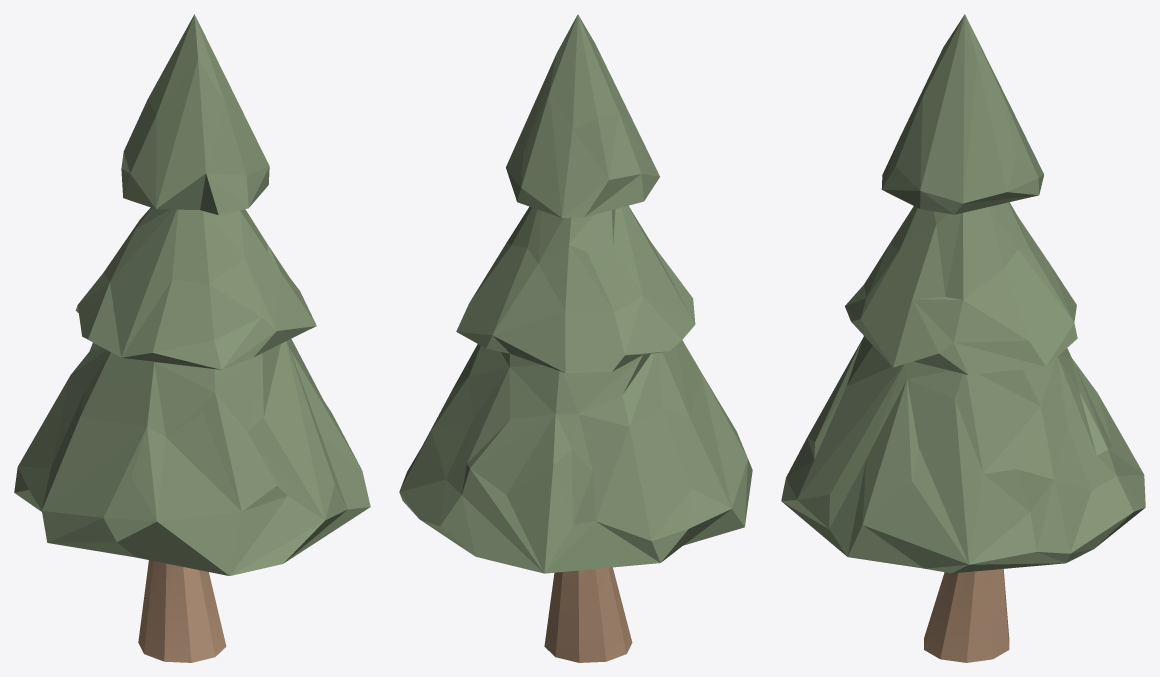
The model's file is Pine_Tree_3.fbx.
3 views of the same model, side by side, from view 1: azimuth 30°, elevation 25°; view 2: azimuth 150°, elevation 25°; view 3: azimuth 270°, elevation 25° (orthographic).
Visible parts, largest first — view 1: Pine_Tree_3; view 2: Pine_Tree_3; view 3: Pine_Tree_3.
Boxes of the visible parts, bbox=[...] form: Pine_Tree_3: bbox=[14, 14, 370, 662]; Pine_Tree_3: bbox=[399, 14, 752, 662]; Pine_Tree_3: bbox=[781, 14, 1145, 662].
Bounding box in the file's own units: 1.8 × 3.47 × 1.8.
